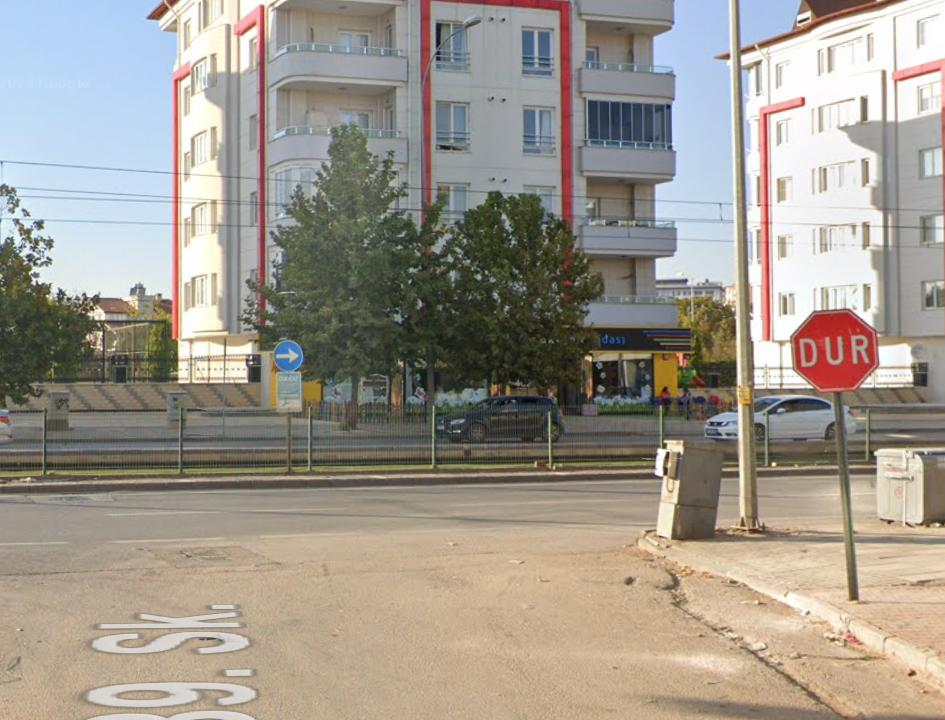stop: (791, 311, 877, 395)
turnright: (274, 343, 304, 373)
